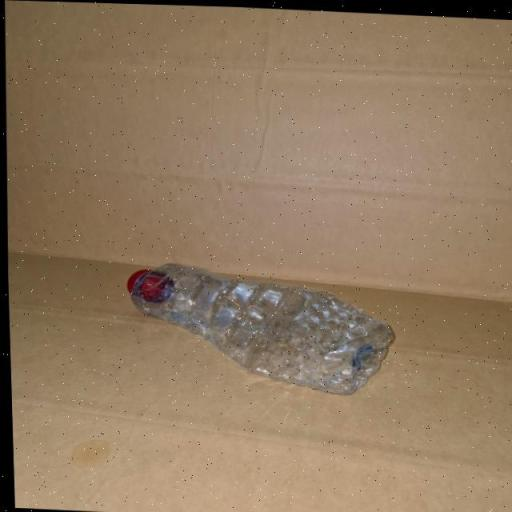plastic: (110, 253, 408, 394)
